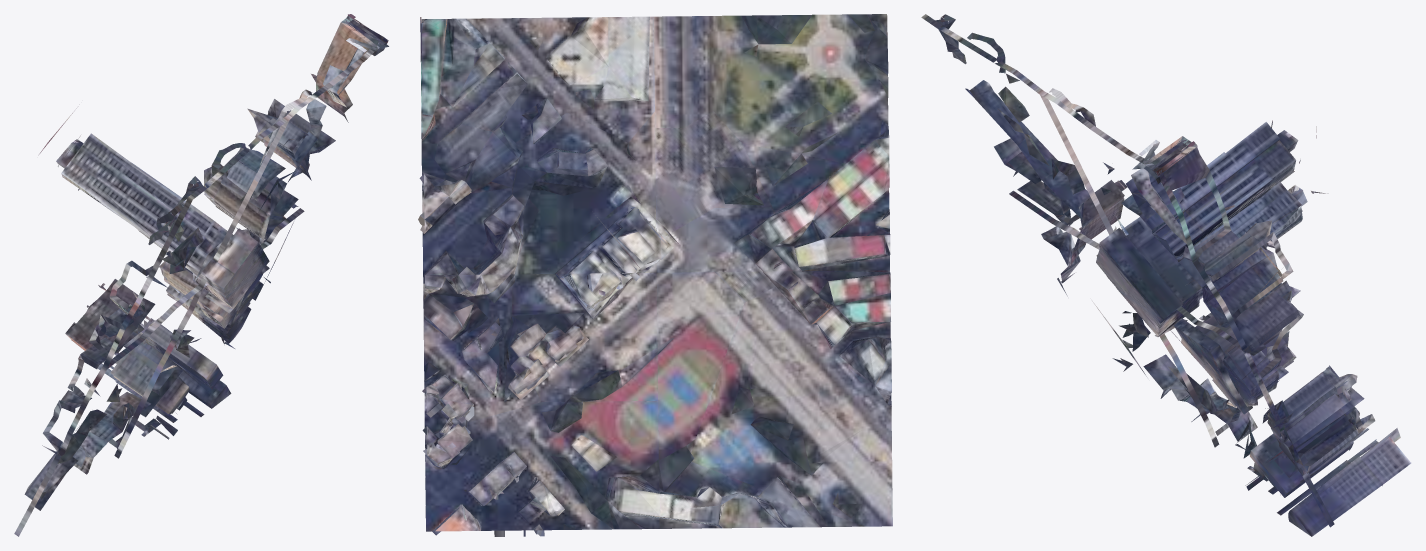
3 renders of one model, left to right at view 1: azimuth 30°, elevation 25°; view 2: azimuth 150°, elevation 25°; view 3: azimuth 270°, elevation 25°, orthographic. The views are drawn at different scales.
Size of the model in its own units: 305 by 295 by 308.
Materials: 2 (2 with a texture image).
